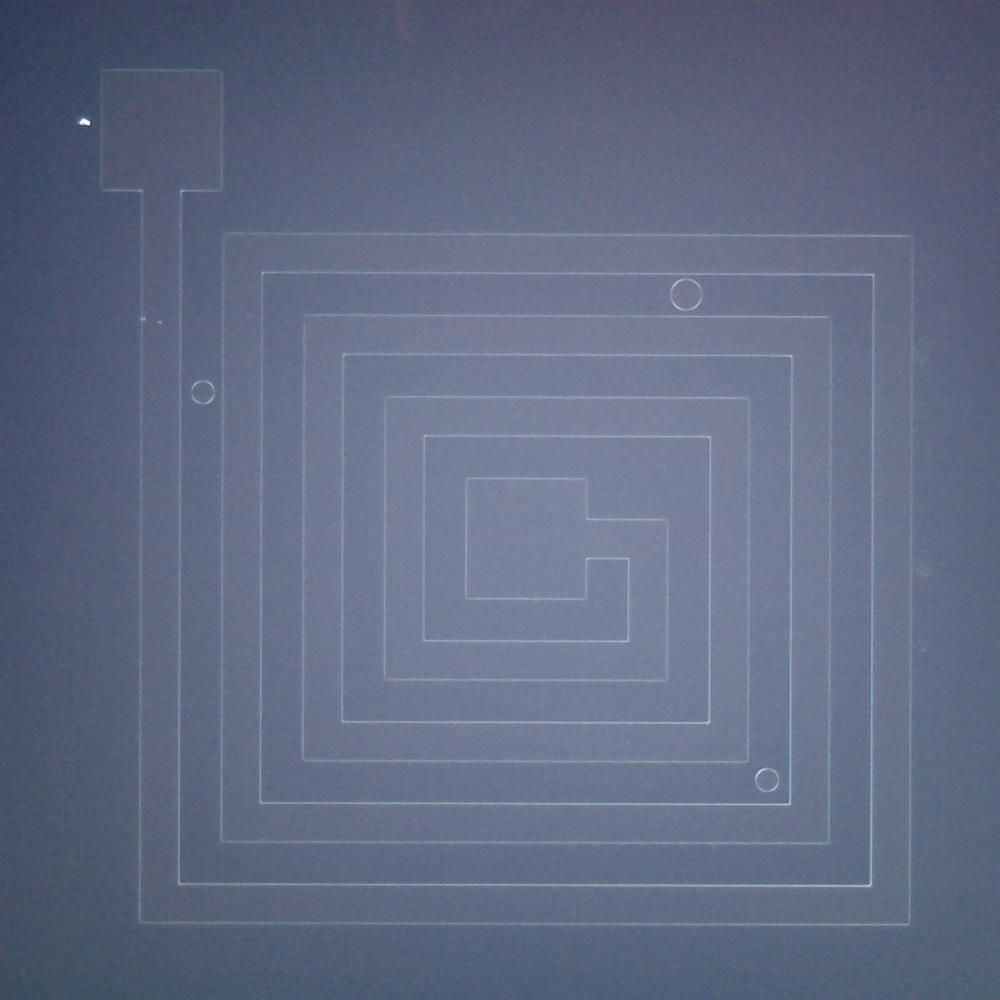circle: (665, 276, 709, 310), (186, 372, 217, 411), (752, 762, 782, 798)
spot: (74, 113, 100, 134)
